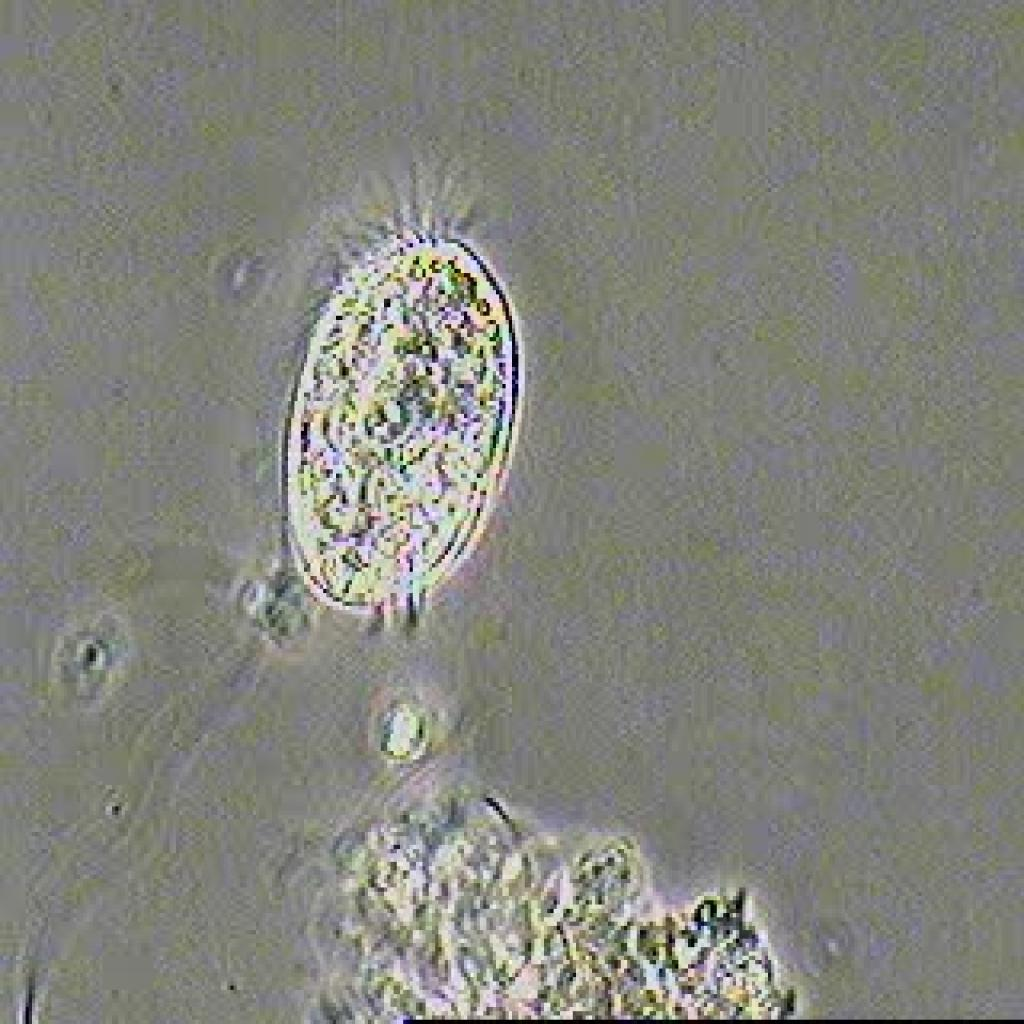Chilodonella: (222, 143, 540, 642)
